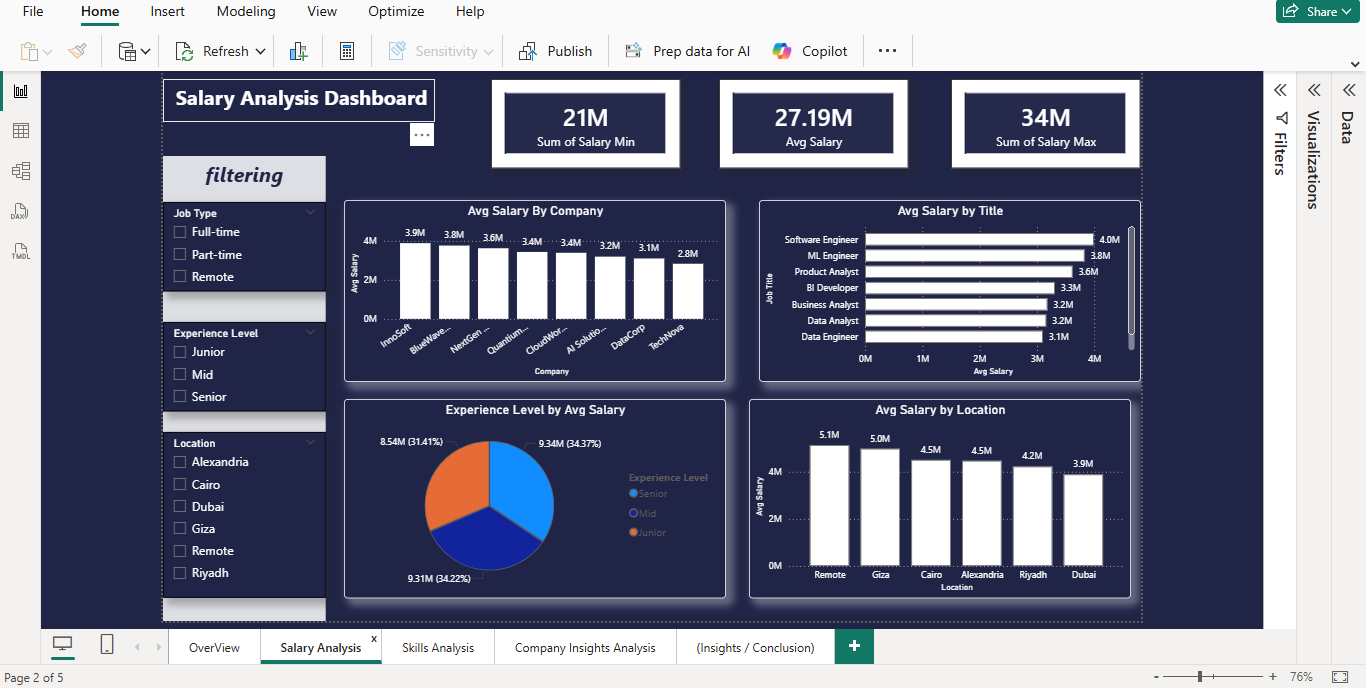

The page's visual inventory and layout, read from the dashboard file:
{"tool":"powerbi","page":{"name":"Salary Analysis","canvas":[1280,720],"ordinal":1},"visuals":[{"type":"textbox","box":[0,10.1,355.7,56.2],"z":0},{"type":"columnChart","title":"Avg Salary by Location","fields":{"Y":["Job Market Data.Avg Salary"],"Category":["Job Market Data.Location"]},"box":[767.5,429.1,499.7,260.6],"z":1000},{"type":"clusteredBarChart","title":"Avg Salary by Title","fields":{"Category":["Job Market Data.Job Title"],"Y":["Job Market Data.Avg Salary"]},"box":[780.5,168.5,499.7,237.6],"z":2000},{"type":"pieChart","title":"Experience Level by Avg Salary","fields":{"Category":["Job Market Data.Experience Level"],"Y":["Job Market Data.Avg Salary"]},"box":[237.6,429.1,499.7,260.6],"z":3000},{"type":"clusteredColumnChart","title":"Avg Salary By Company","fields":{"Category":["Job Market Data.Company"],"Y":["Job Market Data.Avg Salary"]},"box":[237.6,168.5,499.7,237.6],"z":4000},{"type":"textbox","box":[0,110.9,213.1,609.1],"z":5000},{"type":"slicer","fields":{"Values":["Job Market Data.Experience Level"]},"box":[0,328.3,213.1,116.6],"z":6000},{"type":"slicer","fields":{"Values":["Job Market Data.Location"]},"box":[0,472.3,213.1,217.4],"z":7000},{"type":"slicer","fields":{"Values":["Job Market Data.Job Type"]},"box":[0,171.4,213.1,116.6],"z":8000},{"type":"cardVisual","fields":{"Data":["Sum(Job Market Data.Salary Min)"]},"box":[429.1,10.1,247.7,116.6],"z":9000},{"type":"cardVisual","fields":{"Data":["Job Market Data.Avg Salary"]},"box":[727.2,10.1,247.7,116.6],"z":10000},{"type":"cardVisual","fields":{"Data":["Sum(Job Market Data.Salary Max)"]},"box":[1031,10.1,247.7,116.6],"z":11000}]}

Visuals, with their boxes on the page's 1280x720 design canvas (x1, y1, x2, y2). These are canvas units, not pixel positions in the 1366x688 screenshot, which may show the page scaled, cropped or inside an application window:
textbox: (x1=0, y1=10, x2=356, y2=66)
"Avg Salary by Location" columnChart: (x1=768, y1=429, x2=1267, y2=690)
"Avg Salary by Title" clusteredBarChart: (x1=780, y1=168, x2=1280, y2=406)
"Experience Level by Avg Salary" pieChart: (x1=238, y1=429, x2=737, y2=690)
"Avg Salary By Company" clusteredColumnChart: (x1=238, y1=168, x2=737, y2=406)
textbox: (x1=0, y1=111, x2=213, y2=720)
slicer - Job Market Data.Experience Level: (x1=0, y1=328, x2=213, y2=445)
slicer - Job Market Data.Location: (x1=0, y1=472, x2=213, y2=690)
slicer - Job Market Data.Job Type: (x1=0, y1=171, x2=213, y2=288)
cardVisual - Sum(Job Market Data.Salary Min): (x1=429, y1=10, x2=677, y2=127)
cardVisual - Job Market Data.Avg Salary: (x1=727, y1=10, x2=975, y2=127)
cardVisual - Sum(Job Market Data.Salary Max): (x1=1031, y1=10, x2=1279, y2=127)
